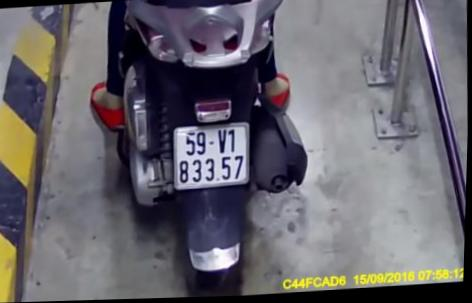LP: (172, 122, 254, 191)
